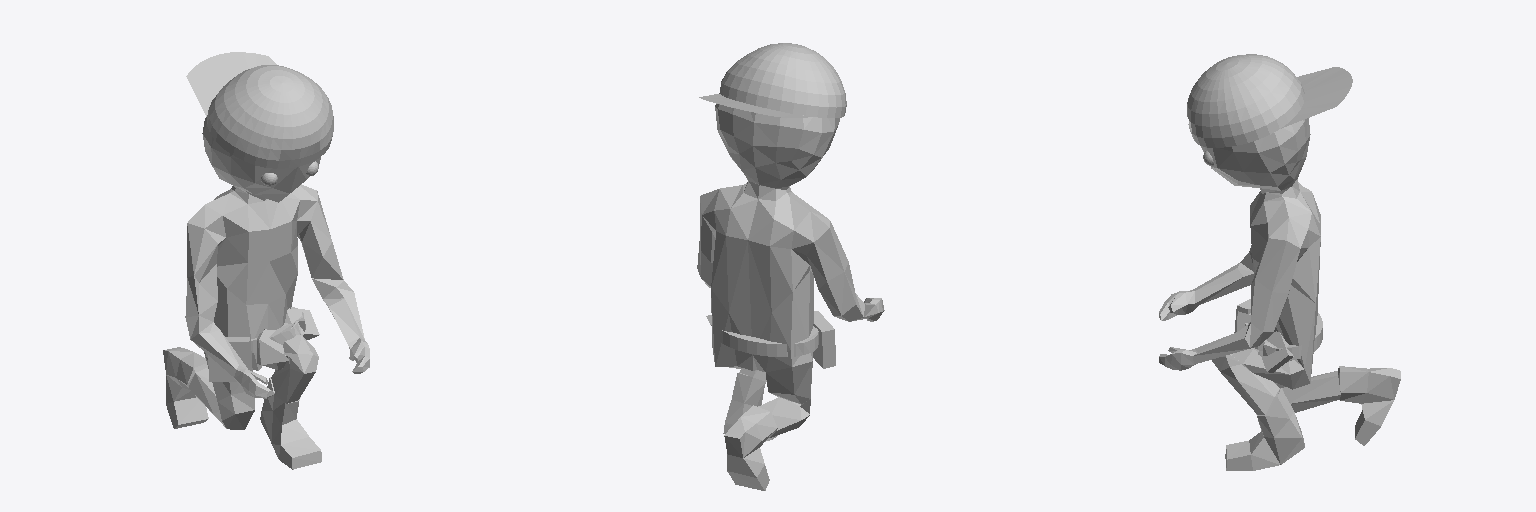
The model's file is Main_Character_TireRepair_5.obj.
3 renders of one model, left to right at view 1: azimuth 30°, elevation 25°; view 2: azimuth 150°, elevation 25°; view 3: azimuth 270°, elevation 25°, orthographic.
Visible parts, largest first — view 1: Main_Character_Test.003_Main_Character_Test.004; view 2: Main_Character_Test.003_Main_Character_Test.004; view 3: Main_Character_Test.003_Main_Character_Test.004.
Part boxes in pixels (x1,y1,x2,y2): Main_Character_Test.003_Main_Character_Test.004: (163, 52, 369, 469); Main_Character_Test.003_Main_Character_Test.004: (697, 43, 884, 490); Main_Character_Test.003_Main_Character_Test.004: (1159, 54, 1400, 470).
Size of the model in its own units: 1.43 by 3.31 by 1.85.